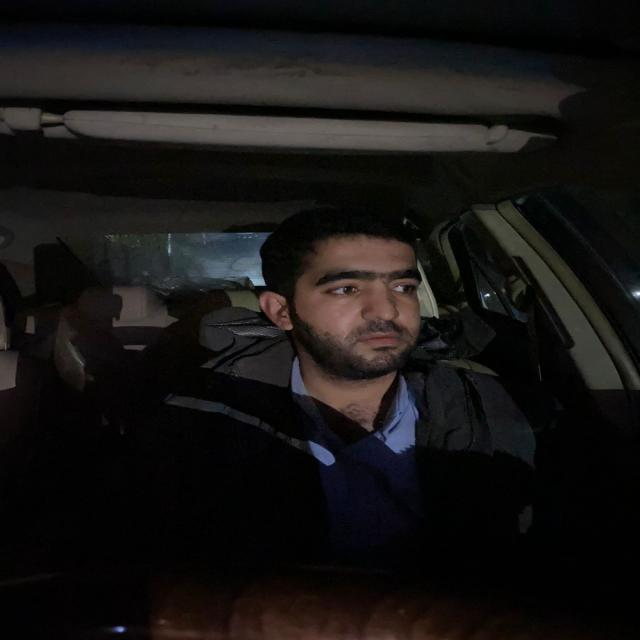person: (254, 201, 436, 376)
